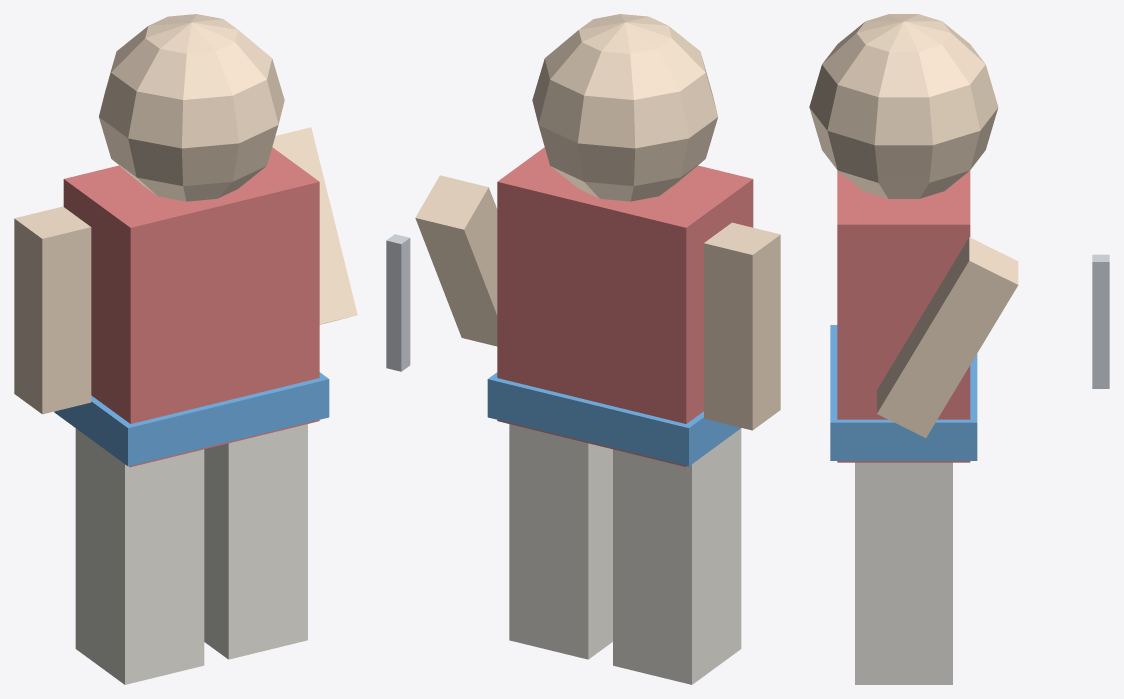
File: skeleton.glb
3 renders of one model, left to right at view 1: azimuth 30°, elevation 25°; view 2: azimuth 150°, elevation 25°; view 3: azimuth 270°, elevation 25°, orthographic.
Parts seen in each view (by area): view 1: skeleton; view 2: skeleton; view 3: skeleton.
Part boxes in pixels (left/top/right/bottom): skeleton: left=14, top=14, right=357, bottom=684; skeleton: left=386, top=14, right=780, bottom=684; skeleton: left=809, top=14, right=1109, bottom=684.
Size of the model in its own units: 0.8 by 1.56 by 0.686.
